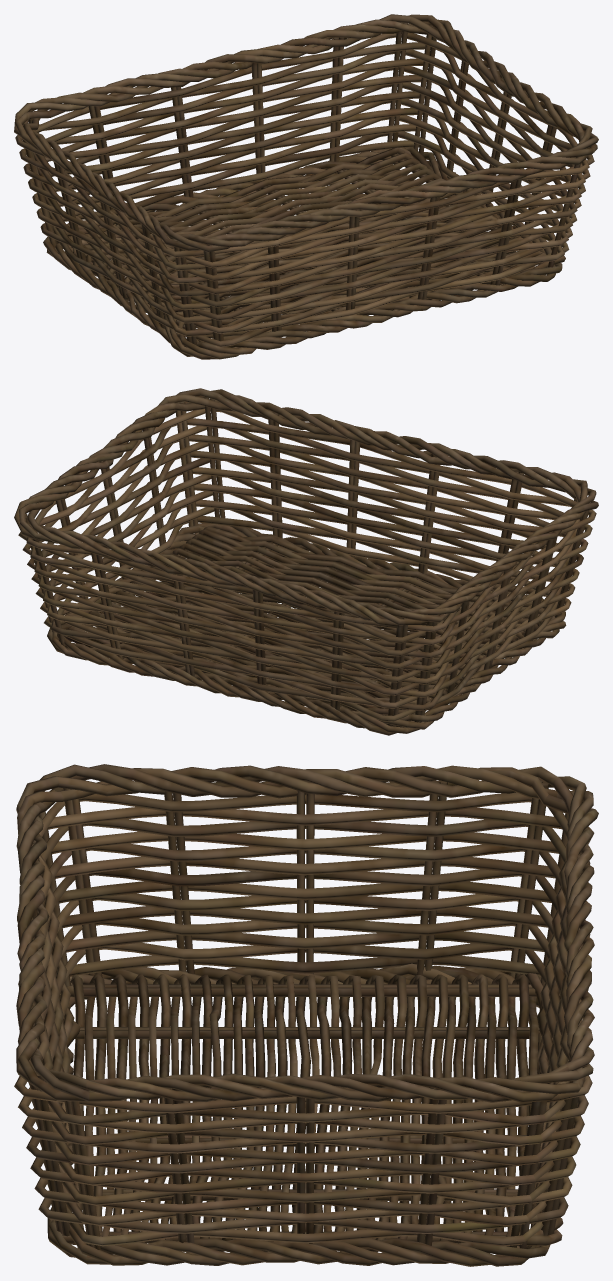
Rendered from wicker_basket_01.glb.
3 views of the same model, one above another, from view 1: azimuth 30°, elevation 25°; view 2: azimuth 150°, elevation 25°; view 3: azimuth 270°, elevation 25° (orthographic). The views are drawn at different scales.
Visible parts, largest first — view 1: wicker_basket_01; view 2: wicker_basket_01; view 3: wicker_basket_01.
Boxes of the visible parts, x1,y1,x2,y2 form: wicker_basket_01: [14, 14, 598, 359]; wicker_basket_01: [14, 388, 598, 735]; wicker_basket_01: [14, 764, 598, 1266].
Size of the model in its own units: 0.3832 by 0.1174 by 0.295.
Materials: 1 (1 with a texture image).
